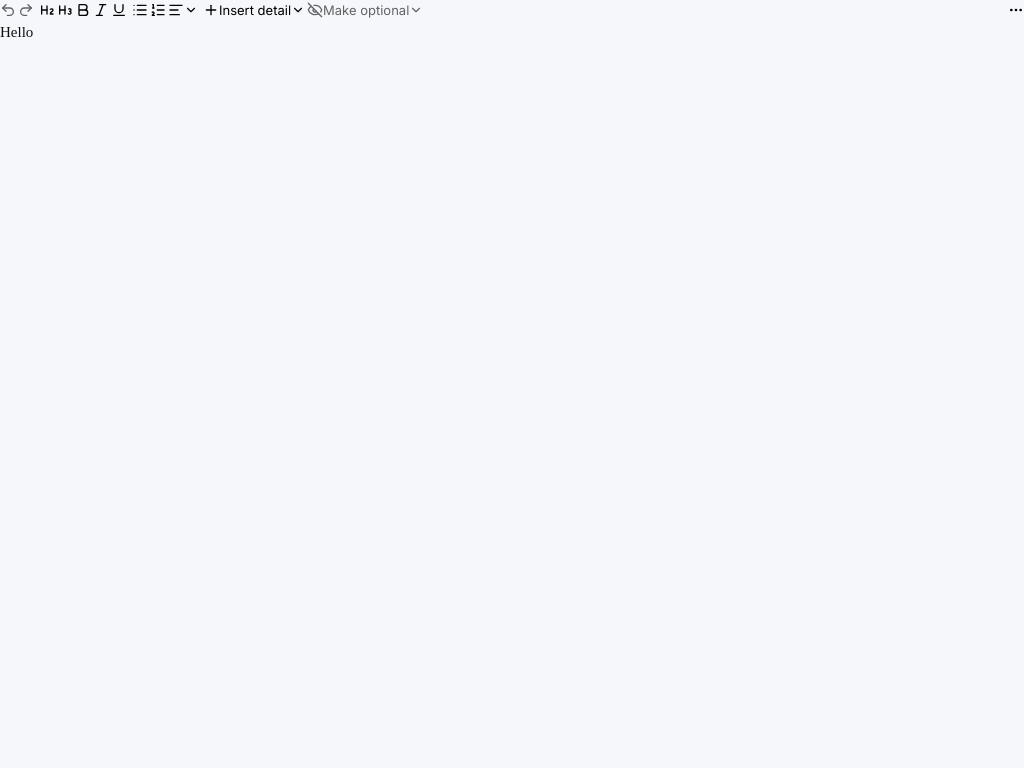
Test: Insert detail picker keyboard (NEW-06) › is a combobox over a listbox, with the first match highlighted
The width and height of the screenshot is (1024, 768).
Check: the text box "Hello" is shown, box 0,24 -> 33,40
Click the button "Insert detail": (254, 10) 203,2 -> 305,18
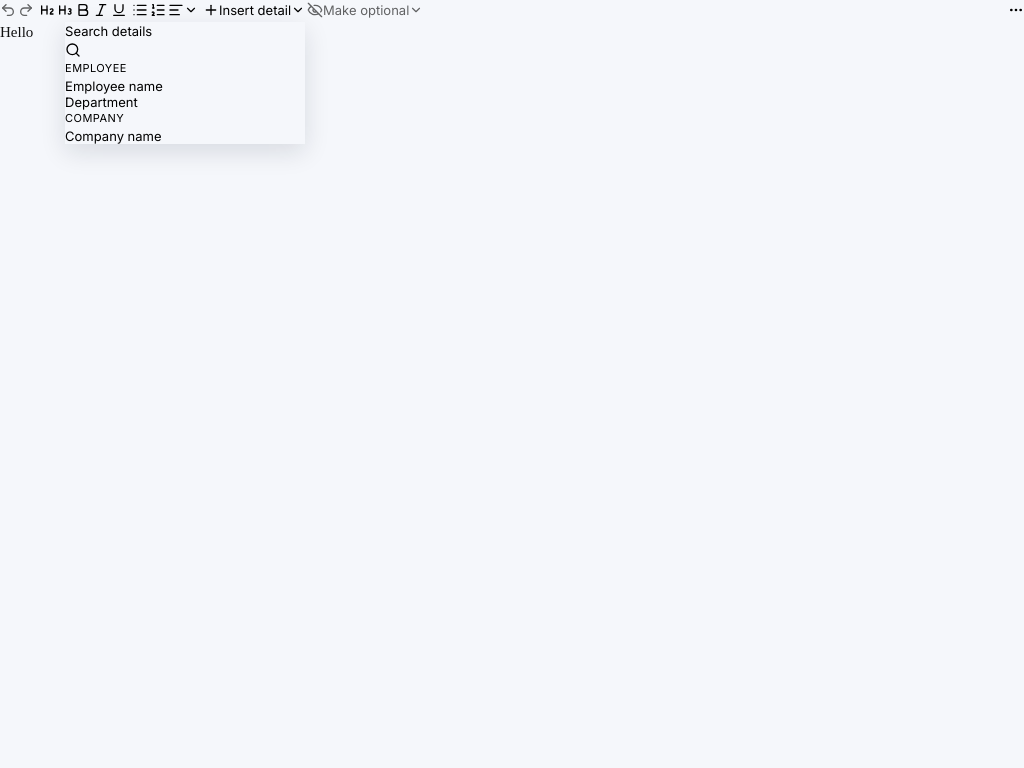
Check: the option "Employee name" is shown, box 65,78 -> 305,94
Check: the element "Company" is shown, box 65,110 -> 305,144
